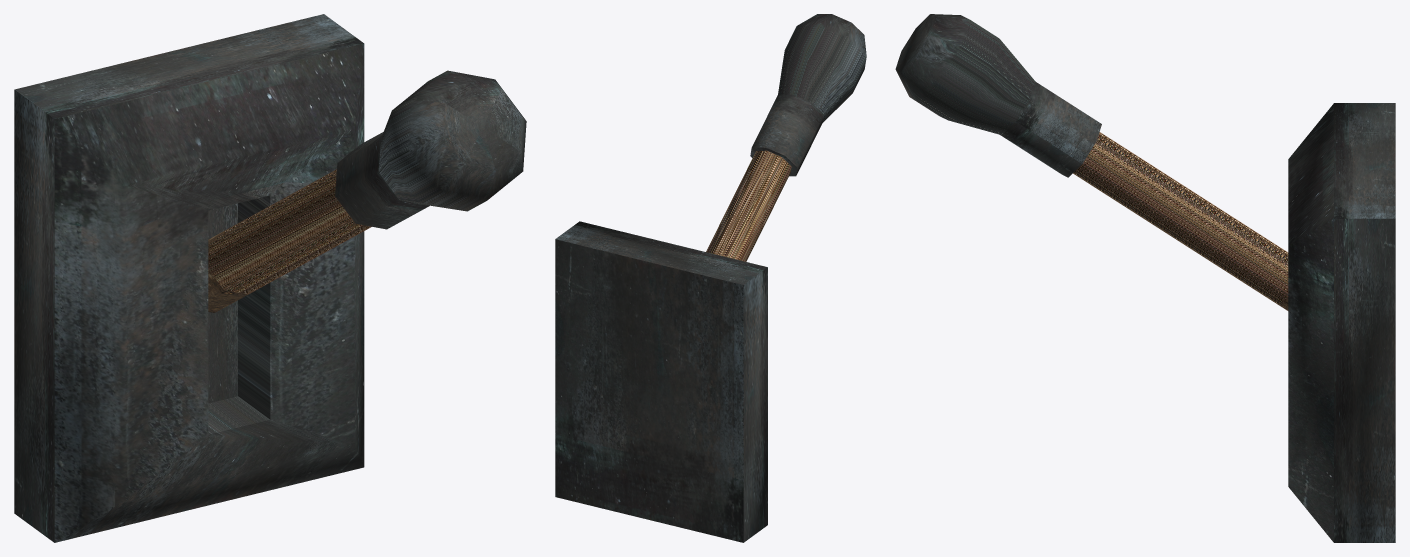
The model's file is lever_on_wall.fbx.
3 views of the same model, side by side, from view 1: azimuth 30°, elevation 25°; view 2: azimuth 150°, elevation 25°; view 3: azimuth 270°, elevation 25° (orthographic). The views are drawn at different scales.
Parts seen in each view (by area): view 1: bottom, header, stick; view 2: bottom, header, stick; view 3: bottom, header, stick.
Boxes of the visible parts, bbox=[...] form: bottom: bbox=[14, 14, 364, 542]; header: bbox=[335, 70, 526, 229]; stick: bbox=[208, 169, 371, 312]; bottom: bbox=[555, 221, 767, 542]; header: bbox=[750, 14, 866, 176]; stick: bbox=[706, 150, 791, 261]; bottom: bbox=[1288, 103, 1395, 542]; header: bbox=[895, 14, 1101, 177]; stick: bbox=[1073, 132, 1288, 310].
Bounding box in the file's own units: 110 × 208 × 201.
3 materials, 3 textured.
